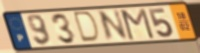3: (50, 12, 77, 45)
5: (146, 7, 175, 39)
9: (27, 13, 53, 47)
D: (72, 10, 101, 44)
M: (120, 7, 157, 42)
N: (97, 9, 130, 44)
